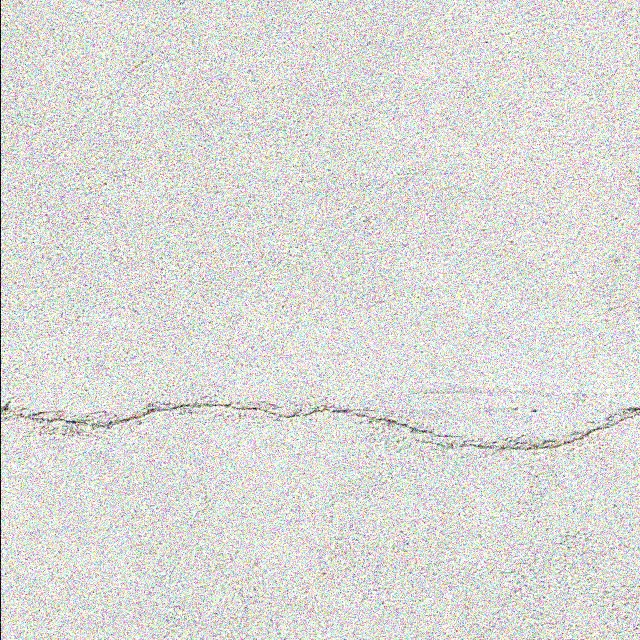SurfaceCrack: (1, 345, 640, 492)
